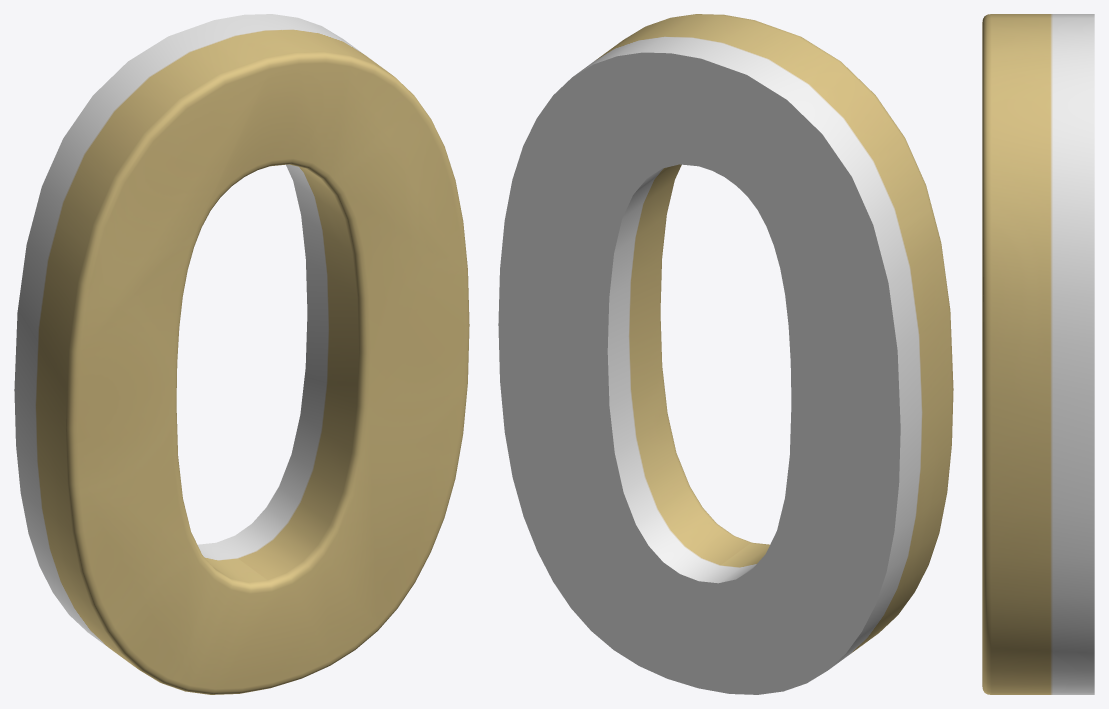
Rendered from LettersLightUp01_0.FBX.
3 views of the same model, side by side, from view 1: azimuth 30°, elevation 25°; view 2: azimuth 150°, elevation 25°; view 3: azimuth 270°, elevation 25° (orthographic).
Visible parts, largest first — view 1: LettersLightUp01_0; view 2: LettersLightUp01_0; view 3: LettersLightUp01_0.
Boxes of the visible parts, bbox=[...] form: LettersLightUp01_0: bbox=[14, 14, 469, 694]; LettersLightUp01_0: bbox=[498, 14, 953, 694]; LettersLightUp01_0: bbox=[982, 14, 1094, 694].
Size of what is drawn, in the model's own units: 0.421 by 0.6305 by 0.1012.
